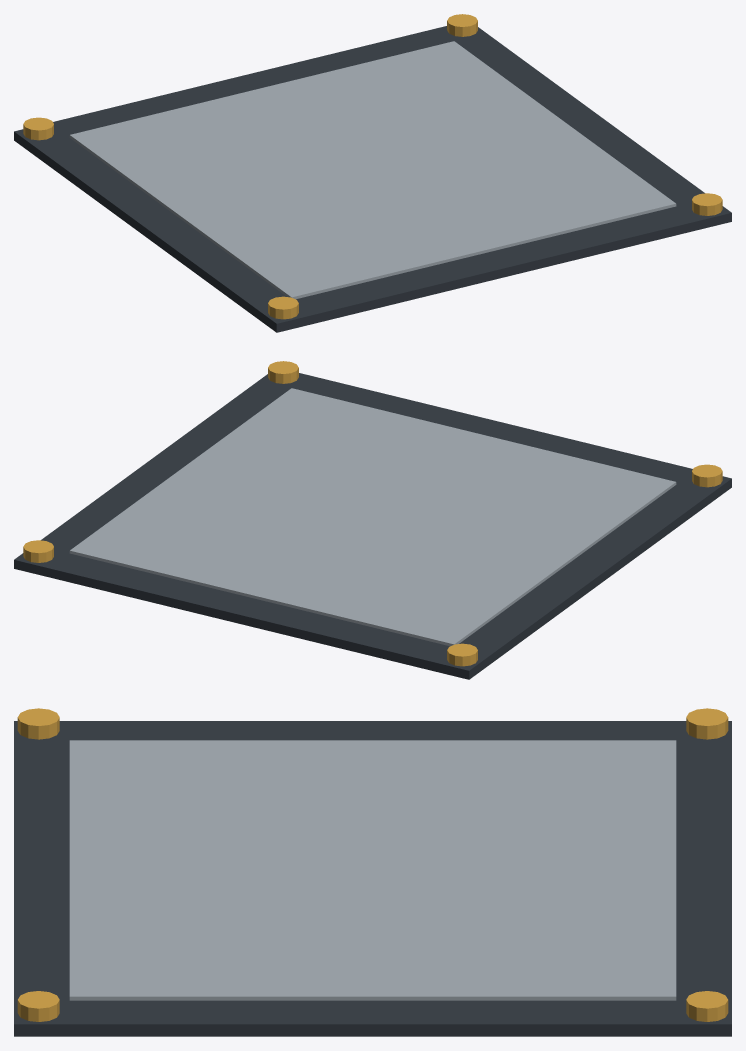
The model's file is 132_L110_CPU_RetentionSocket.fbx.
3 views of the same model, one above another, from view 1: azimuth 30°, elevation 25°; view 2: azimuth 150°, elevation 25°; view 3: azimuth 270°, elevation 25° (orthographic). The views are drawn at different scales.
Visible parts, largest first — view 1: L110_CPU_RetentionSocket_SOLDER, L110_CPU_RetentionSocket_DARK_METAL, L110_CPU_RetentionSocket_GOLD; view 2: L110_CPU_RetentionSocket_SOLDER, L110_CPU_RetentionSocket_DARK_METAL, L110_CPU_RetentionSocket_GOLD; view 3: L110_CPU_RetentionSocket_SOLDER, L110_CPU_RetentionSocket_DARK_METAL, L110_CPU_RetentionSocket_GOLD.
Boxes of the visible parts, x1,y1,x2,y2 form: L110_CPU_RetentionSocket_SOLDER: (69, 41, 676, 299); L110_CPU_RetentionSocket_DARK_METAL: (14, 26, 731, 332); L110_CPU_RetentionSocket_GOLD: (23, 14, 722, 319); L110_CPU_RetentionSocket_SOLDER: (69, 388, 676, 646); L110_CPU_RetentionSocket_DARK_METAL: (14, 373, 731, 679); L110_CPU_RetentionSocket_GOLD: (23, 361, 722, 666); L110_CPU_RetentionSocket_SOLDER: (69, 740, 676, 1000); L110_CPU_RetentionSocket_DARK_METAL: (14, 721, 731, 1036); L110_CPU_RetentionSocket_GOLD: (17, 708, 728, 1021).
Bounding box in the file's own units: 58 × 58 × 2.35.
